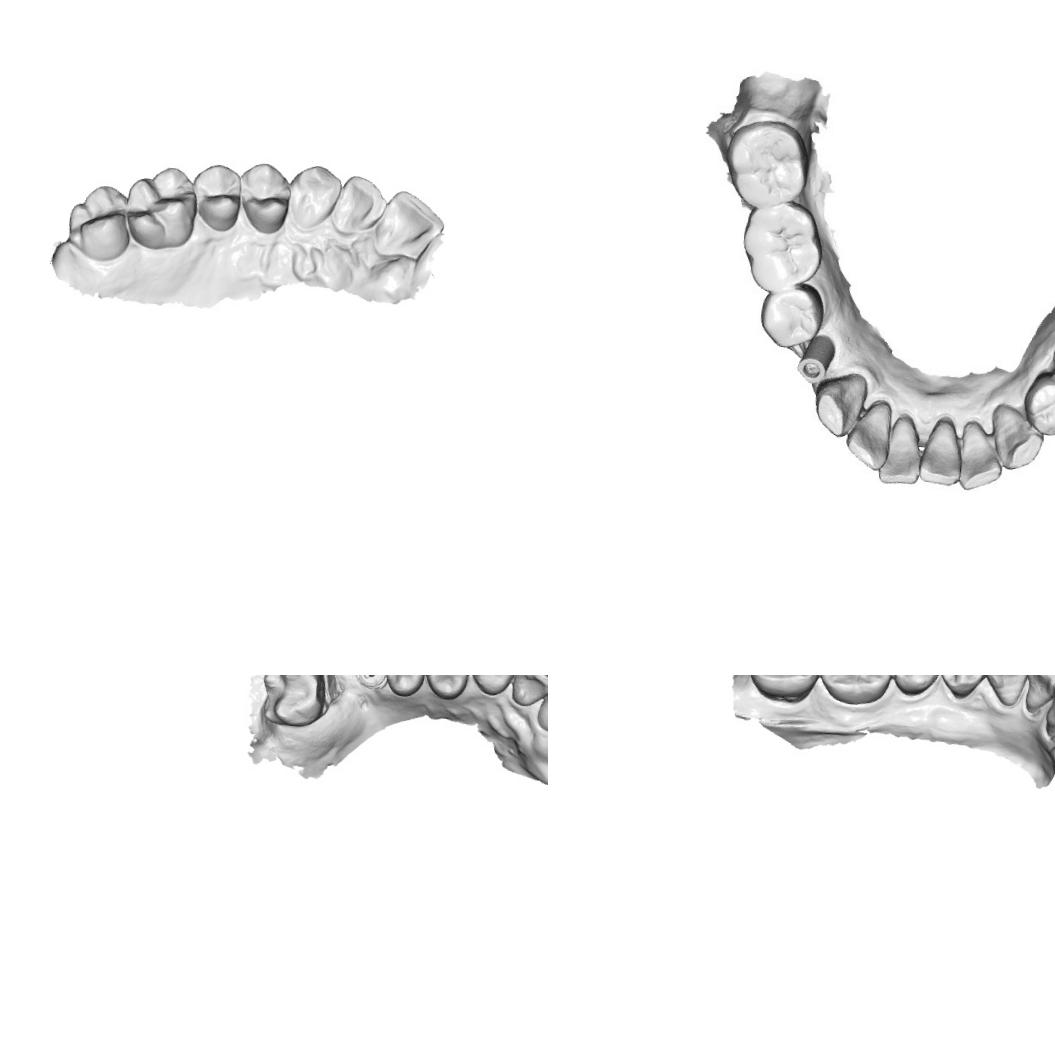canine: (808, 366, 870, 438), (986, 405, 1046, 479), (285, 162, 344, 232), (982, 675, 1030, 708), (465, 675, 520, 698)
implant: (792, 334, 841, 388)
implant_minus: (354, 675, 391, 690)
incisor: (368, 186, 448, 268), (952, 414, 1010, 494), (329, 172, 389, 239), (844, 399, 896, 475), (876, 412, 925, 487), (919, 415, 964, 489), (1022, 675, 1055, 716), (511, 675, 548, 710), (534, 680, 548, 738), (1044, 678, 1055, 731)
molar: (720, 112, 814, 212), (740, 198, 822, 288), (122, 162, 202, 254), (64, 181, 137, 265), (257, 675, 335, 731), (816, 675, 896, 709), (745, 675, 823, 705)
premolar: (233, 158, 294, 238), (759, 276, 826, 348), (187, 160, 245, 234), (1023, 374, 1055, 441), (419, 675, 474, 703), (937, 675, 987, 701), (890, 675, 943, 699), (380, 675, 428, 699)
